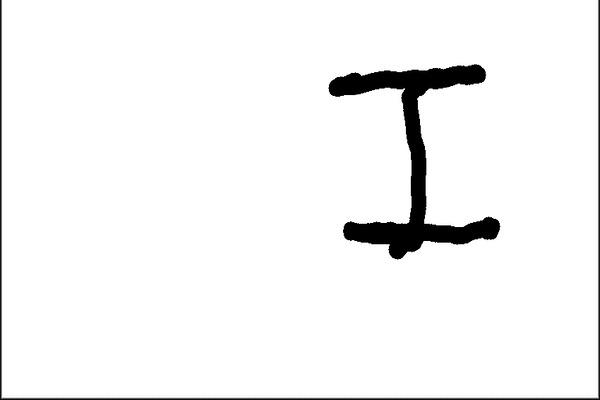i: (313, 58, 499, 260)
